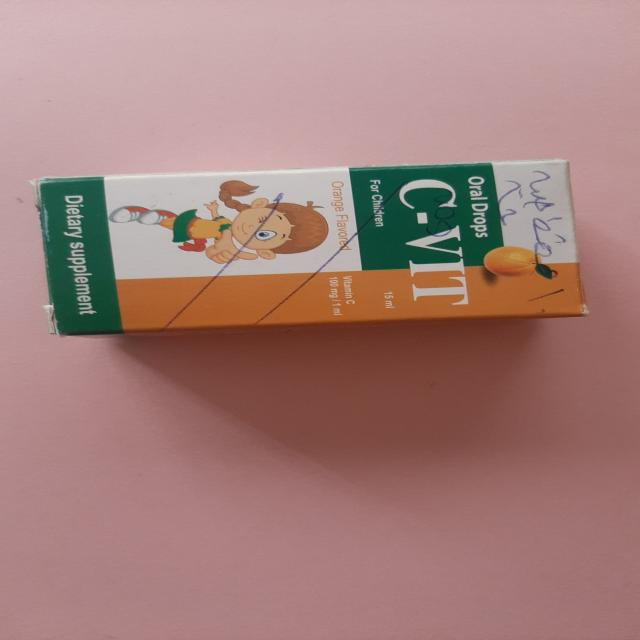C-VIT: (23, 142, 619, 361)
